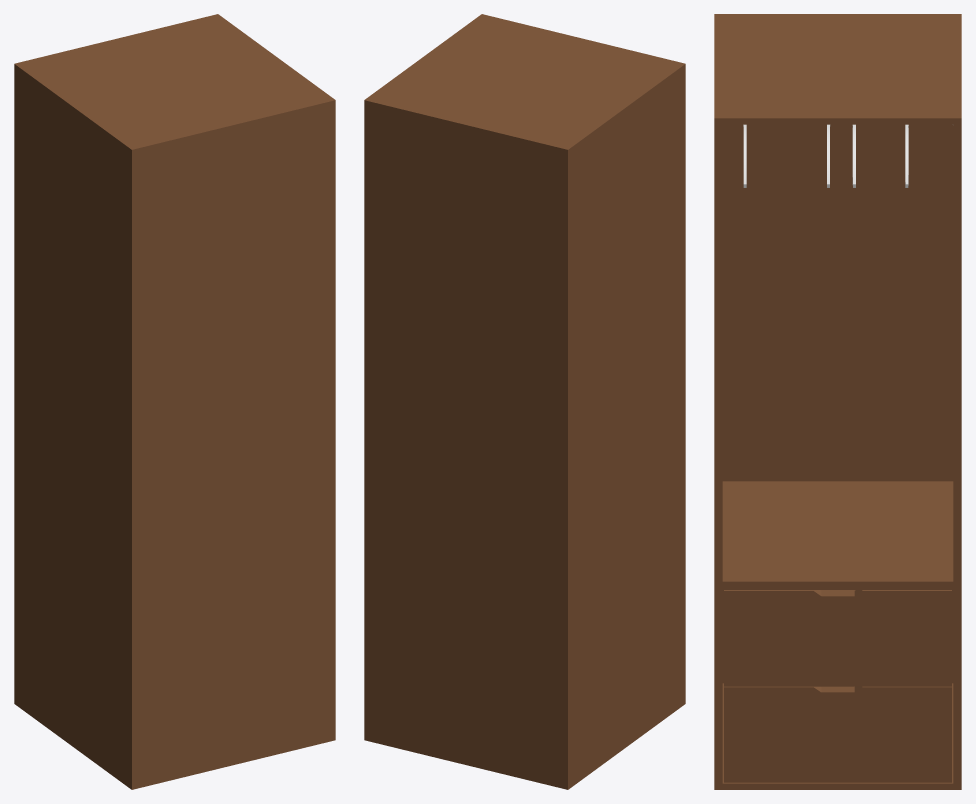
Rendered from Closet3.fbx.
3 renders of one model, left to right at view 1: azimuth 30°, elevation 25°; view 2: azimuth 150°, elevation 25°; view 3: azimuth 270°, elevation 25°, orthographic. The views are drawn at different scales.
Visible parts, largest first — view 1: Closet3; view 2: Closet3; view 3: Closet3.
Boxes of the visible parts, <box> form: Closet3: <box>14,14,335,789</box>; Closet3: <box>364,14,685,789</box>; Closet3: <box>714,14,961,789</box>.
Size of the model in its own units: 200 by 200 by 600.
